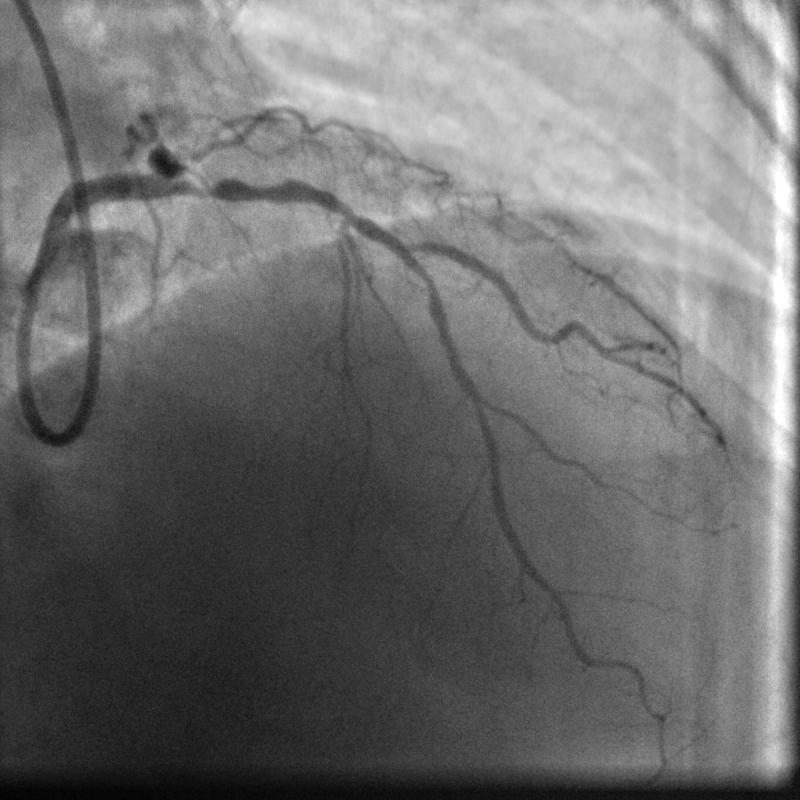Stenosis: (185, 164, 289, 201)
